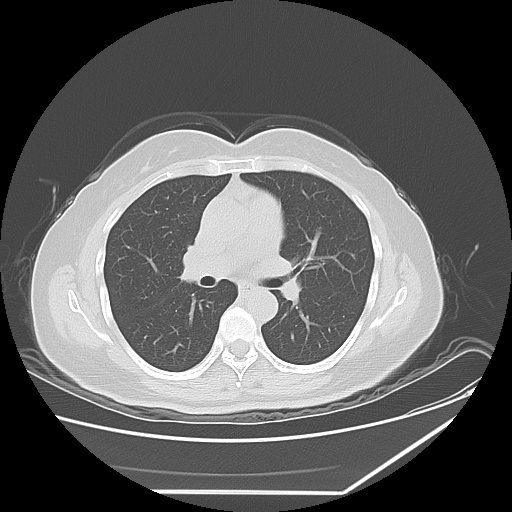nodule: (197, 349, 204, 353)
